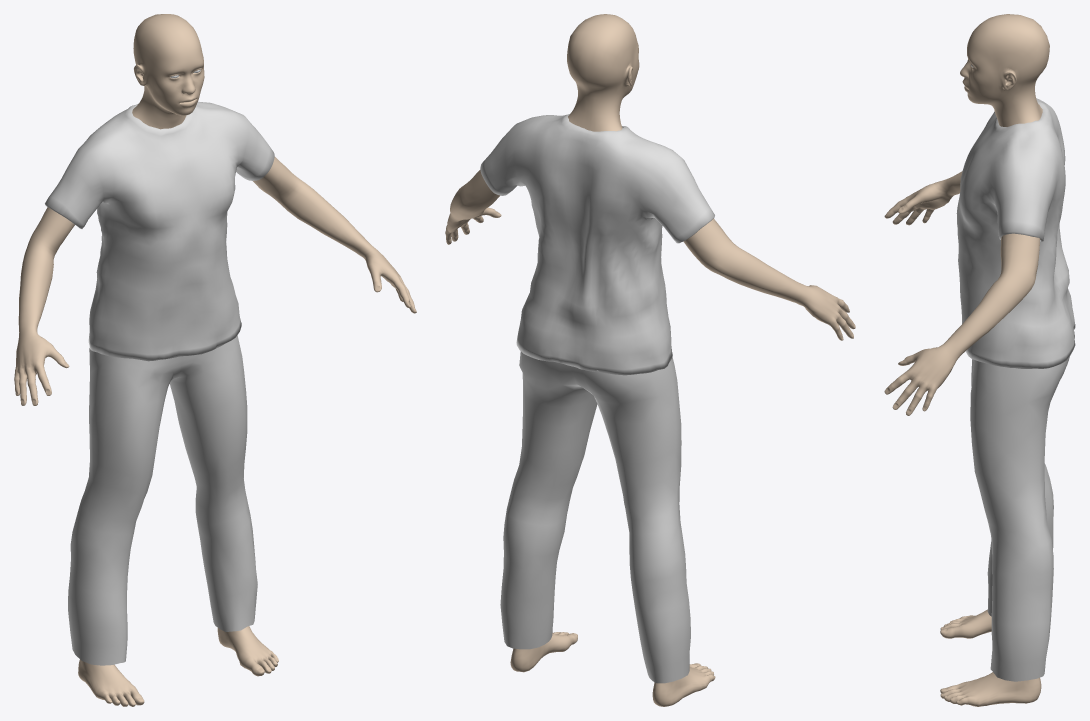
Rendered from modelo3d_M_6.fbx.
3 renders of one model, left to right at view 1: azimuth 30°, elevation 25°; view 2: azimuth 150°, elevation 25°; view 3: azimuth 270°, elevation 25°, orthographic.
Parts seen in each view (by area): view 1: untitled.male_casualsuit06, untitled; view 2: untitled.male_casualsuit06, untitled; view 3: untitled.male_casualsuit06, untitled.
Part boxes in pixels (bbox=[...]): untitled.male_casualsuit06: bbox=[45, 101, 274, 665]; untitled: bbox=[14, 14, 416, 706]; untitled.male_casualsuit06: bbox=[480, 114, 714, 683]; untitled: bbox=[445, 14, 855, 706]; untitled.male_casualsuit06: bbox=[956, 98, 1075, 681]; untitled: bbox=[884, 14, 1049, 706].
Bounding box in the file's own units: 105 × 166 × 44.22.
